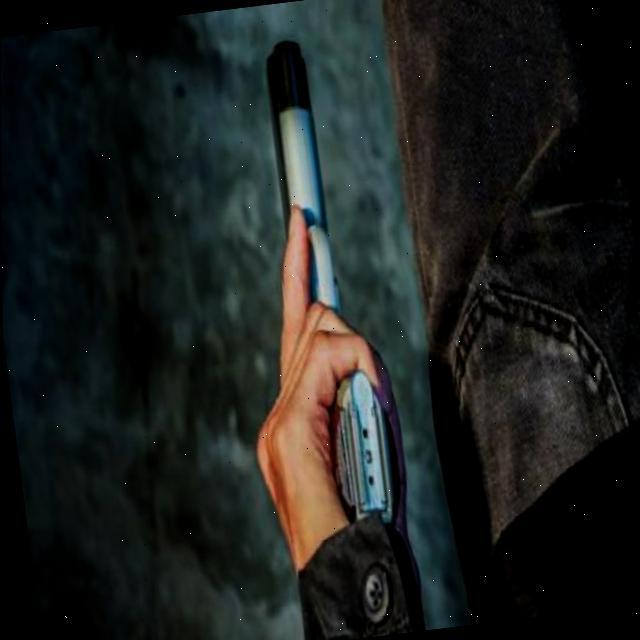gun: (245, 33, 400, 545)
